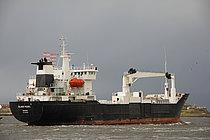Ship: (8, 37, 197, 129)
